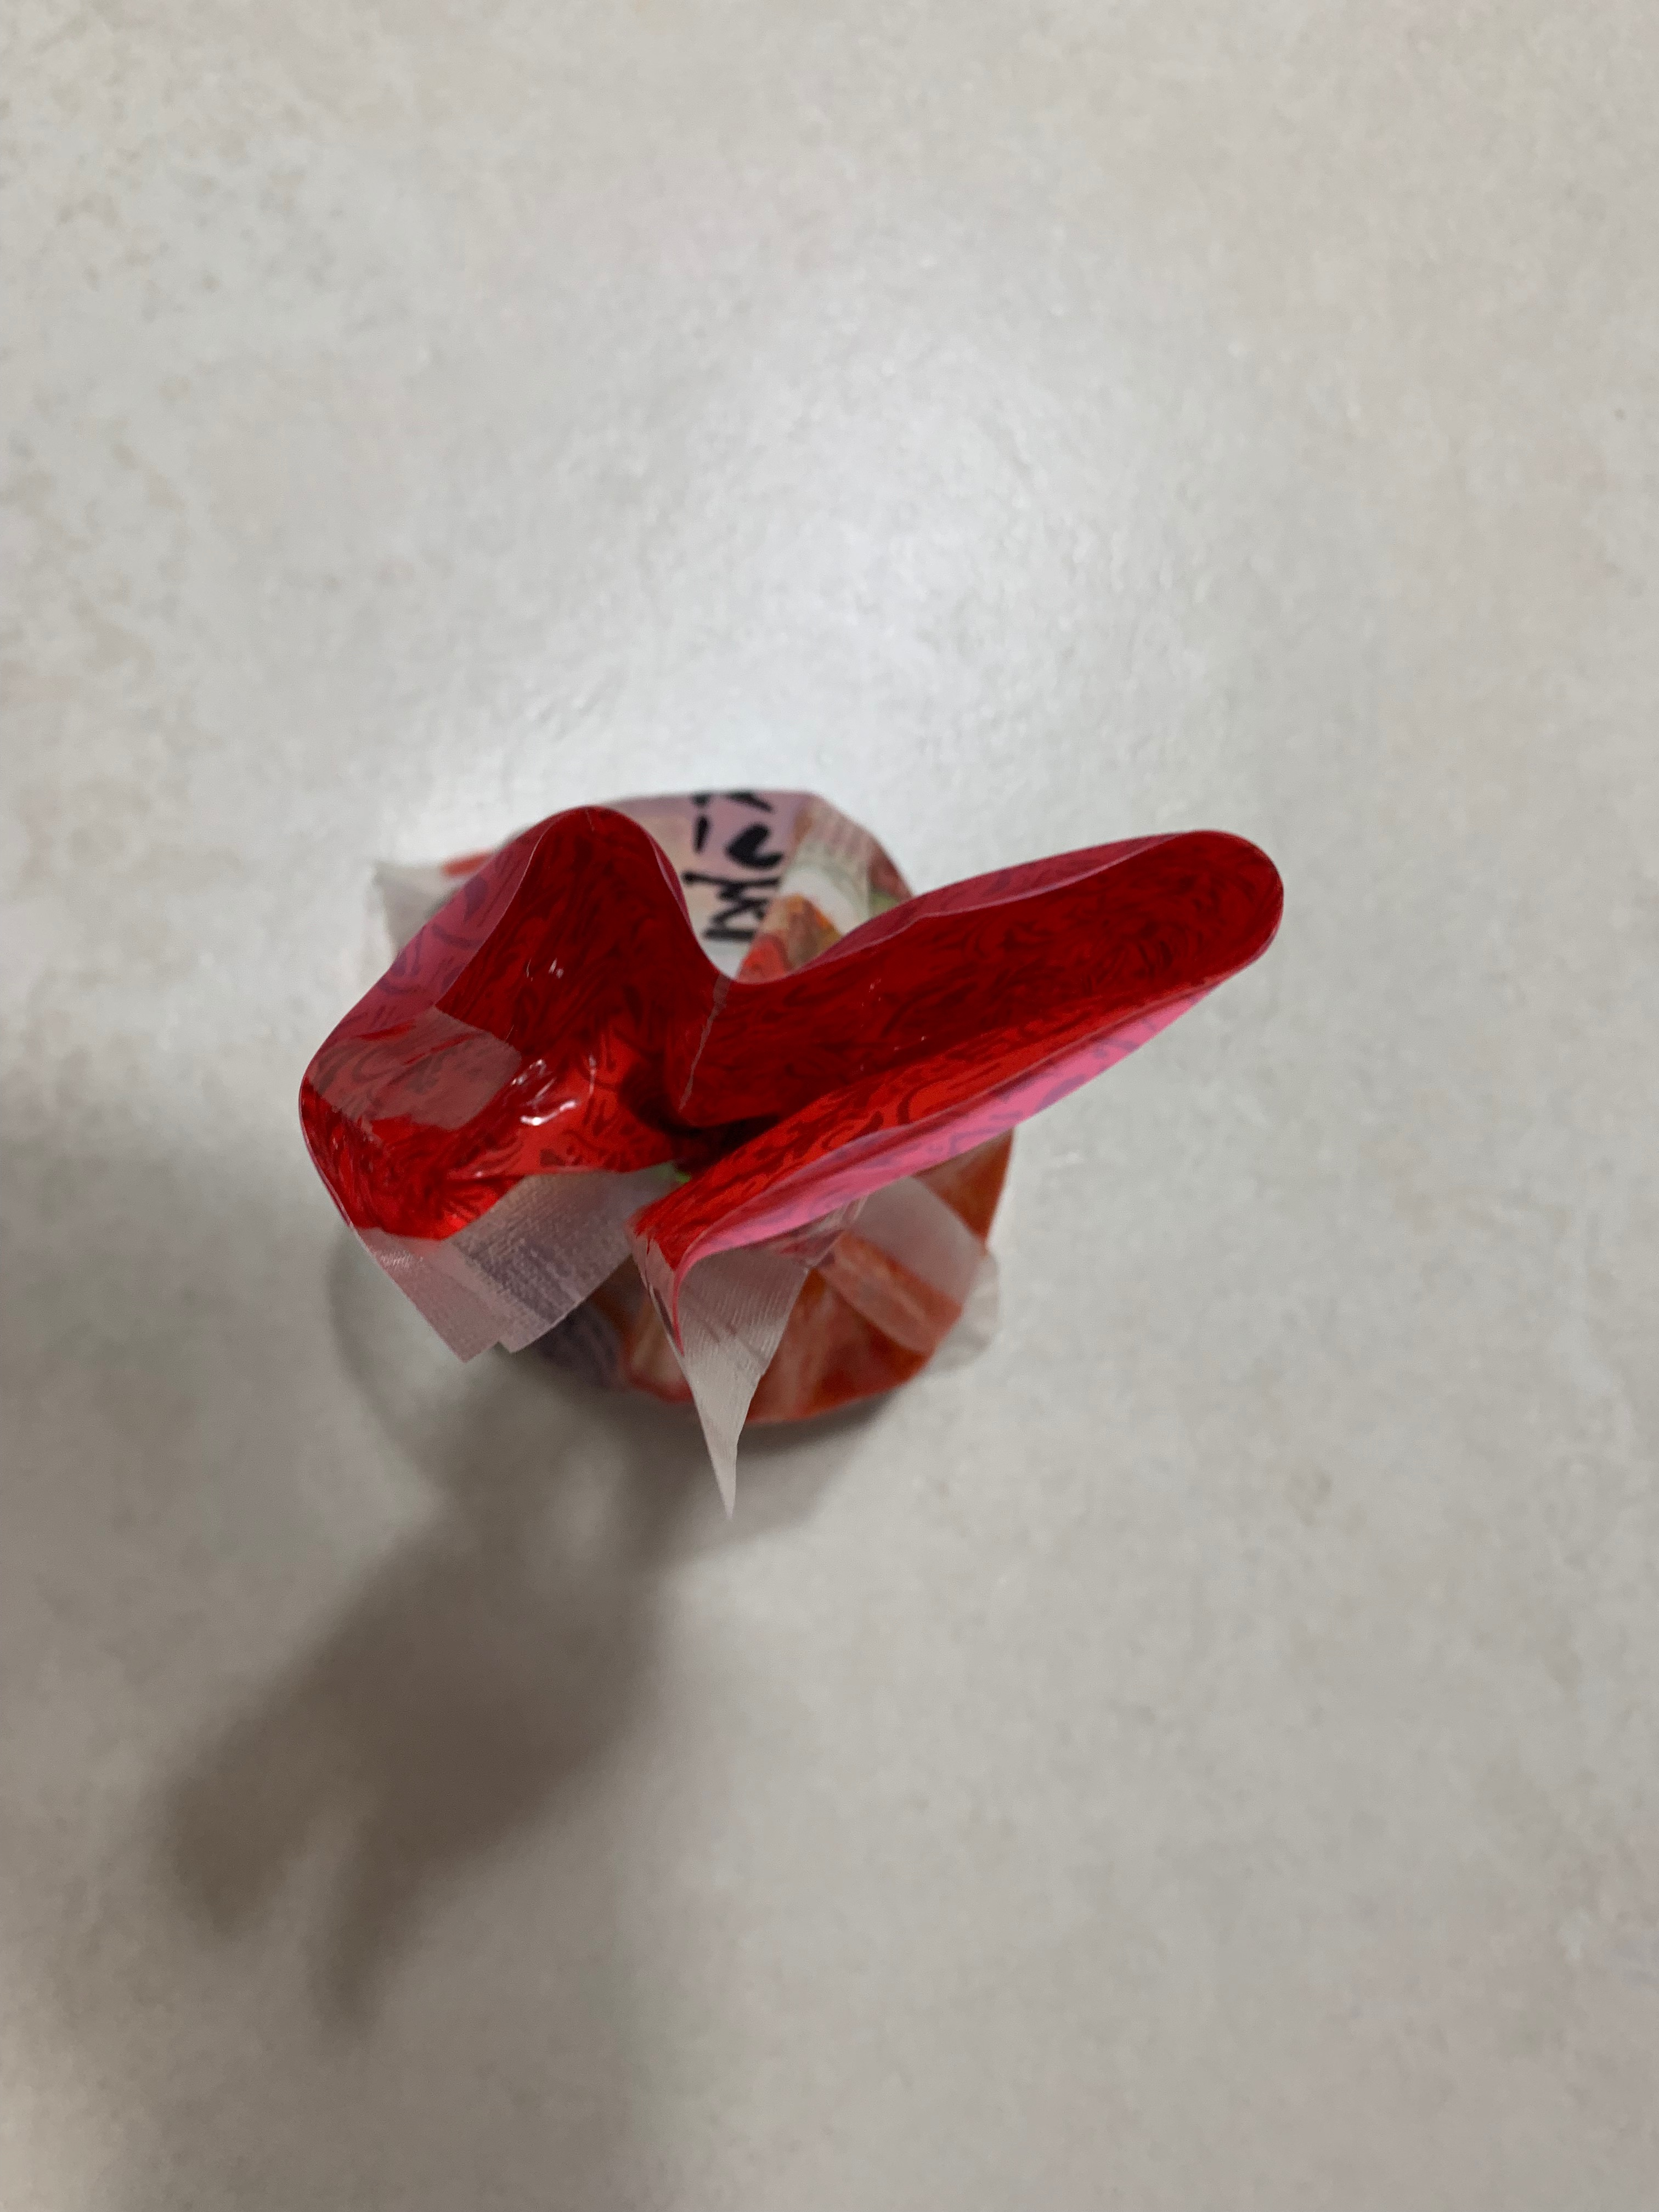kimchi: (298, 787, 1283, 1425)
